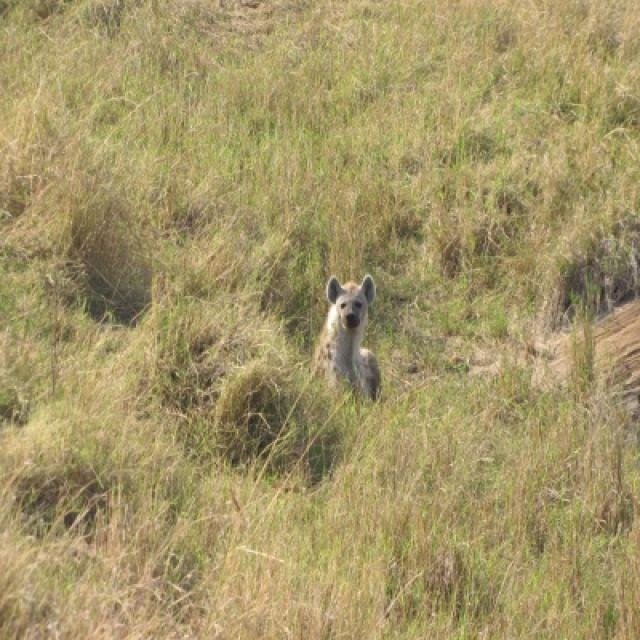hyena: (314, 277, 382, 403)
